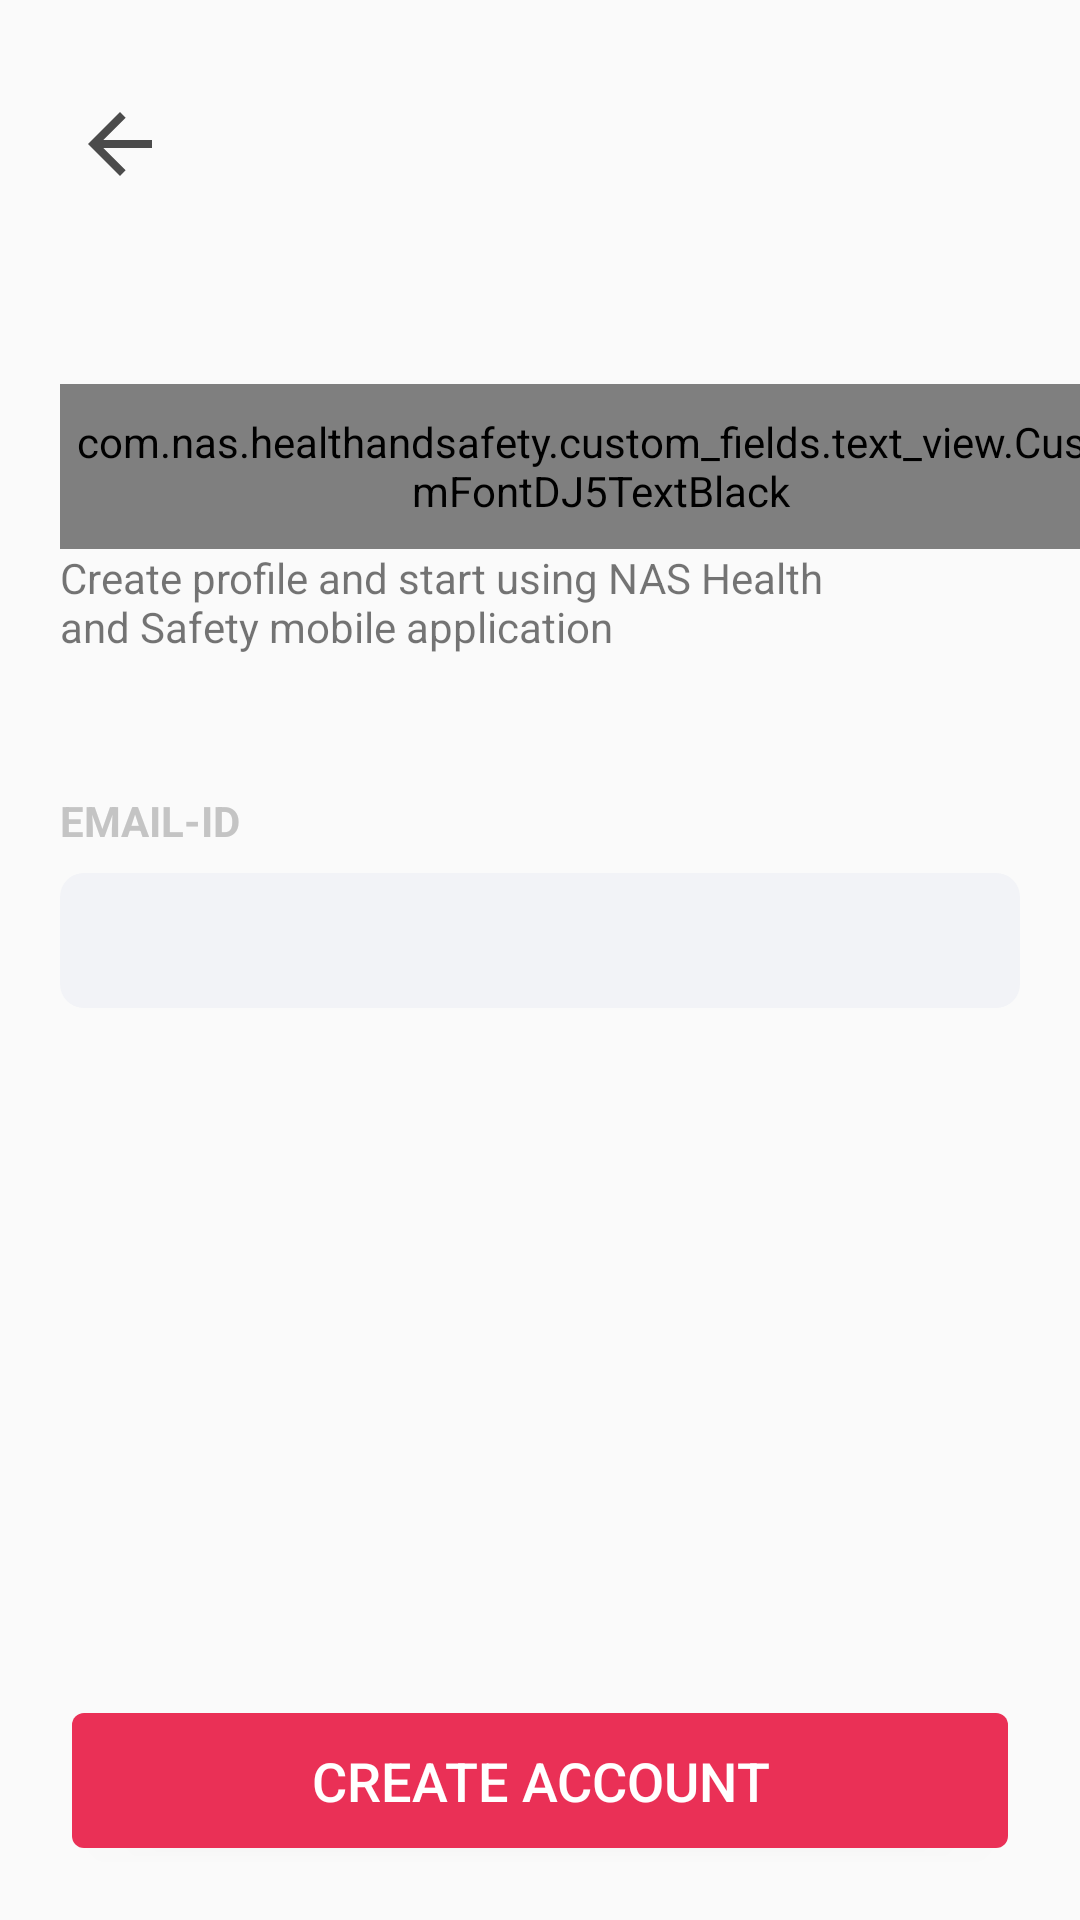

Point at icon controls on the screen. Image size 1080*1920, points as (x,y).
arrow back: (120,144)
